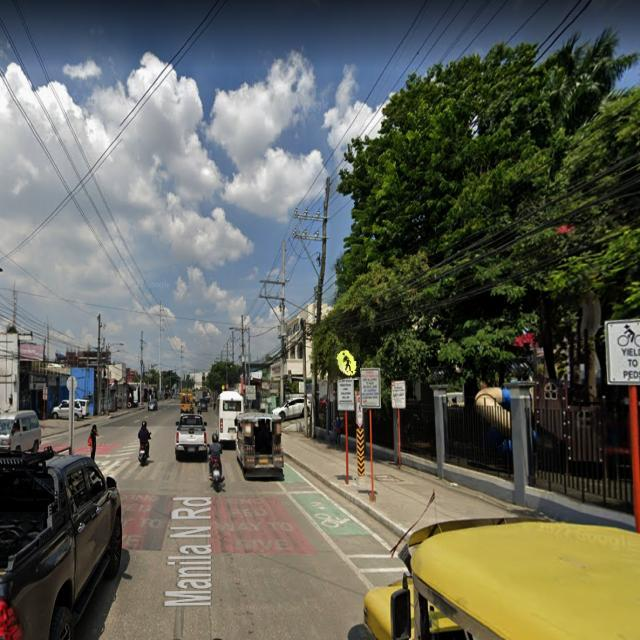pedestrian crossing: (331, 343, 360, 380)
